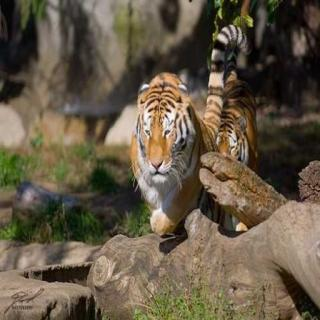Tiger: (109, 21, 219, 244), (211, 78, 264, 164)
